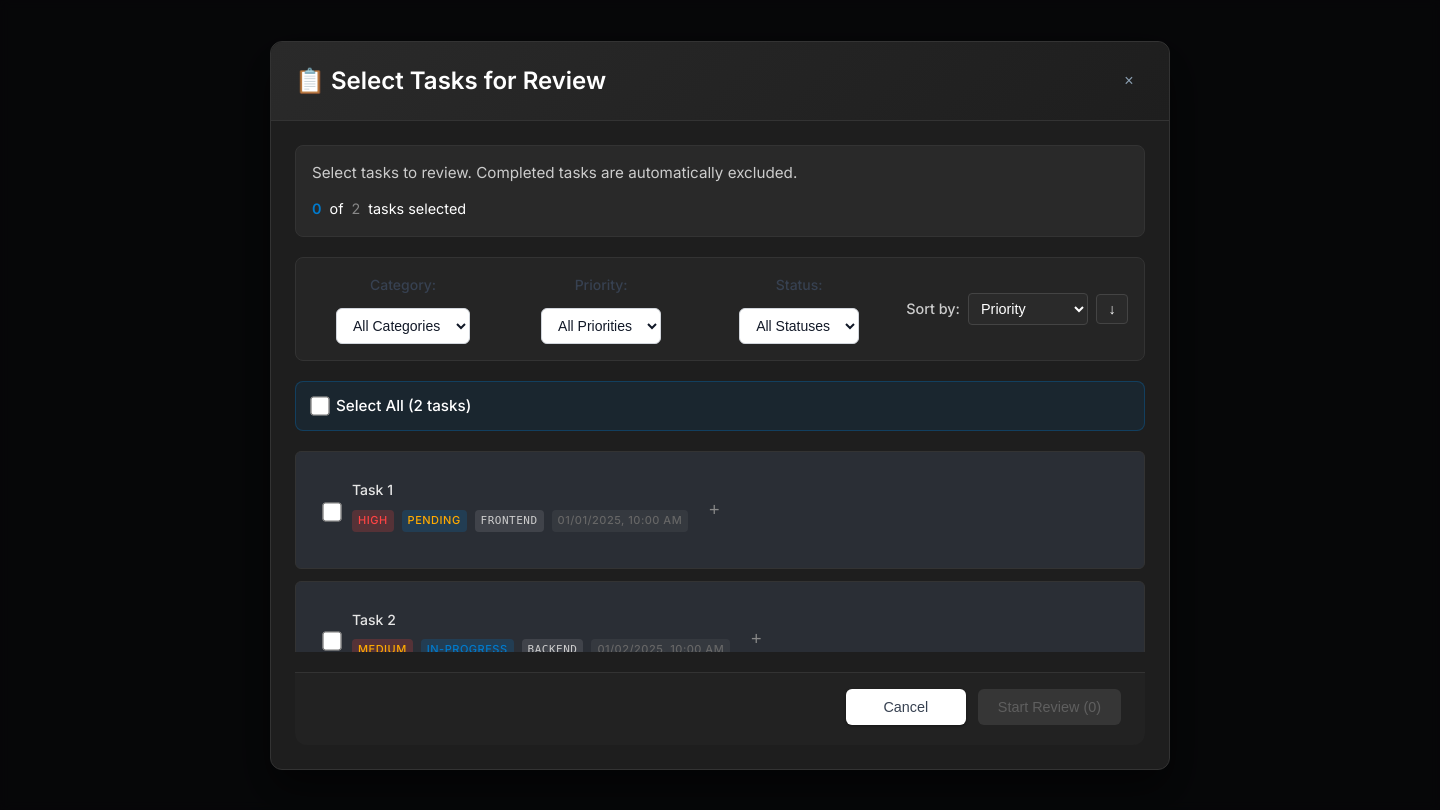
TaskReviewSelectionModal › Task Filtering › filters tasks by category
This screenshot has width=1440, height=810.
Select "frontend" in the dropdown showing "All Categories" below "Category:" at (403, 326), box x1=336 y1=308 x2=470 y2=344
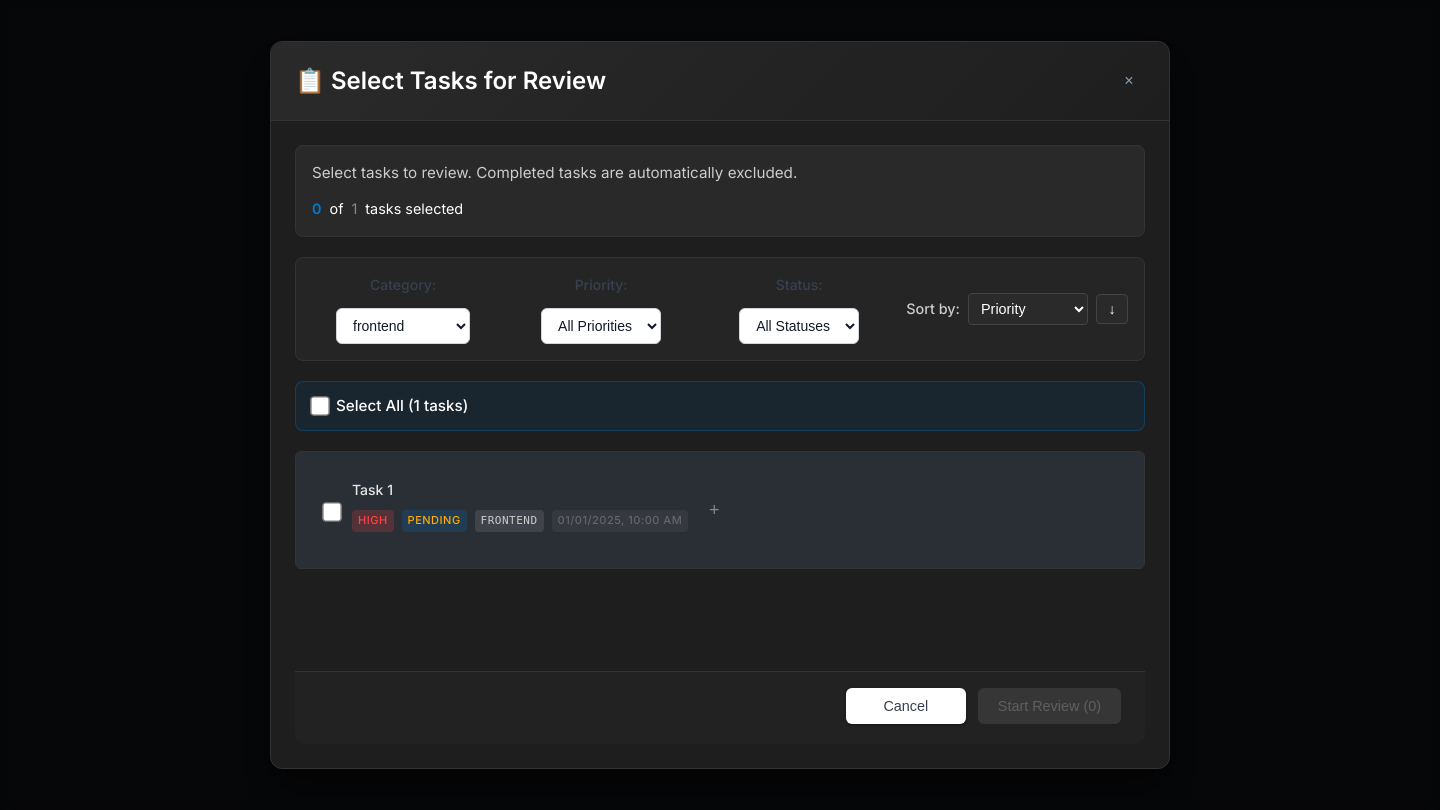
Expected: the text "Task 1" is shown, x1=352 y1=482 x2=393 y2=498
Expected: the text "Task 2" is gone
